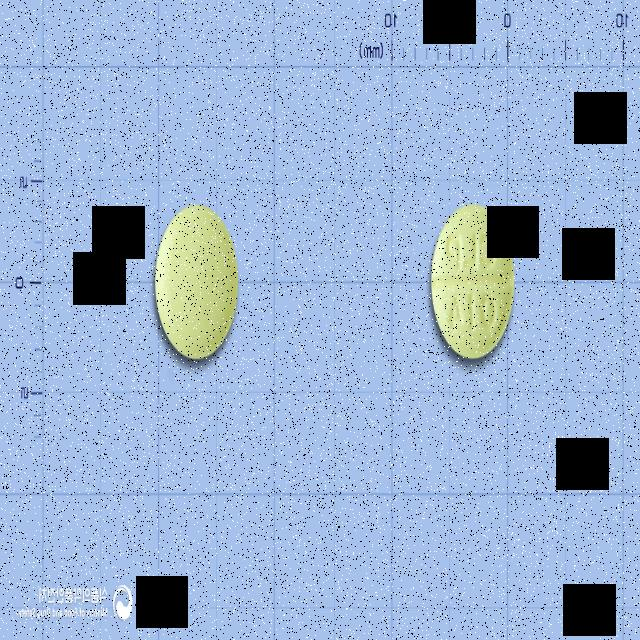Immuthera: (431, 201, 515, 360), (154, 204, 239, 361)
